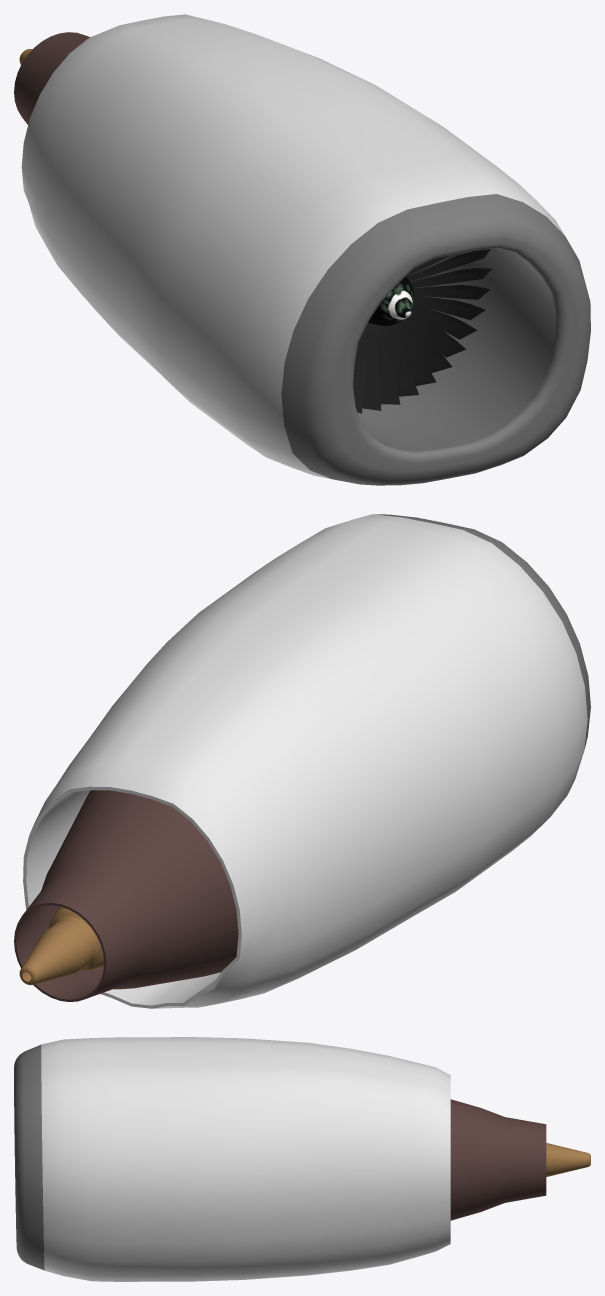
3 renders of one model, top to bottom at view 1: azimuth 30°, elevation 25°; view 2: azimuth 150°, elevation 25°; view 3: azimuth 270°, elevation 25°, orthographic. The views are drawn at different scales.
Parts seen in each view (by area): view 1: Circle.001_6, Circle.034_3, Circle.004_5, Cylinder.002_2; view 2: Circle.001_6, Circle.004_5, Circle.005_4; view 3: Circle.001_6, Circle.004_5, Circle.005_4.
Part boxes in pixels (x1,y1,x2,y2): Circle.001_6: (21, 14, 590, 485); Circle.034_3: (353, 249, 492, 413); Circle.004_5: (14, 32, 89, 124); Cylinder.002_2: (368, 276, 413, 325); Circle.001_6: (23, 514, 590, 1008); Circle.004_5: (14, 790, 238, 1001); Circle.005_4: (19, 906, 104, 985); Circle.001_6: (14, 1037, 450, 1281); Circle.004_5: (450, 1099, 546, 1220); Circle.005_4: (546, 1143, 590, 1176).
Bounding box in the file's own units: 1.28 × 1.12 × 2.86.
6 materials, 1 textured.
